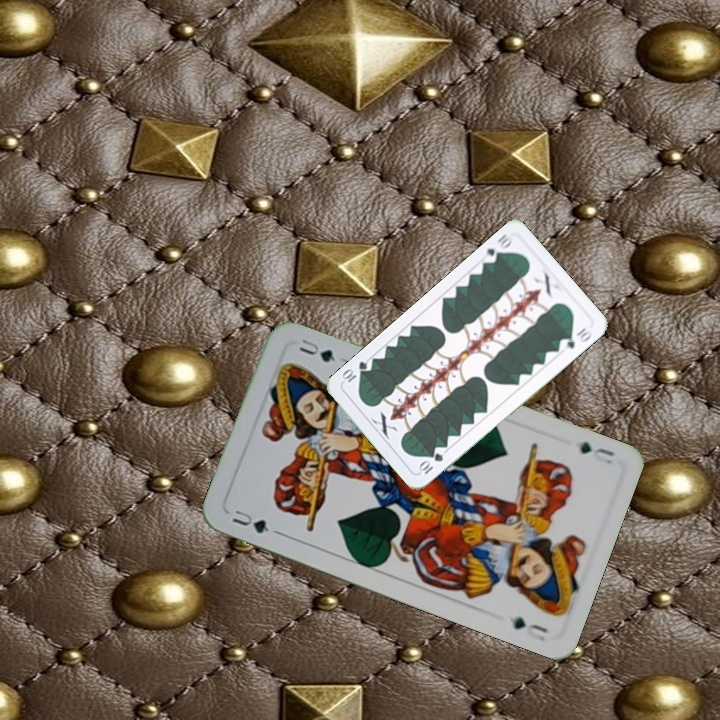G10: (482, 230, 514, 266), (415, 449, 446, 477)
GU: (228, 506, 272, 536), (575, 437, 617, 467)
